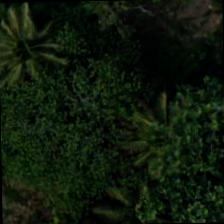Kelapa_Sawit: (116, 92, 208, 184), (0, 4, 71, 96), (89, 164, 181, 224)
